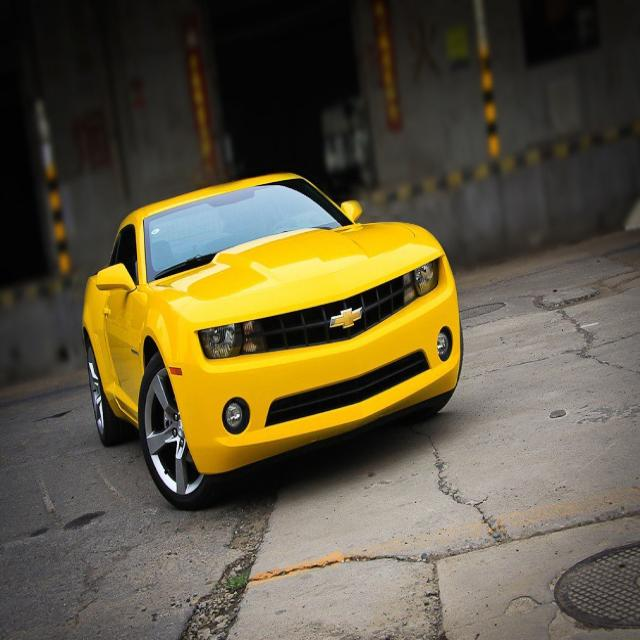front_bumper: (167, 254, 472, 476)
front_glass: (147, 173, 359, 287)
front_left_side_light: (406, 249, 446, 308)
front_left_side_mirror: (340, 193, 365, 227)
front_right_side_door: (99, 217, 154, 428)
front_right_side_light: (195, 318, 260, 366)
front_right_side_mirror: (94, 260, 135, 300)
wheel: (137, 353, 227, 507), (85, 339, 134, 444)
